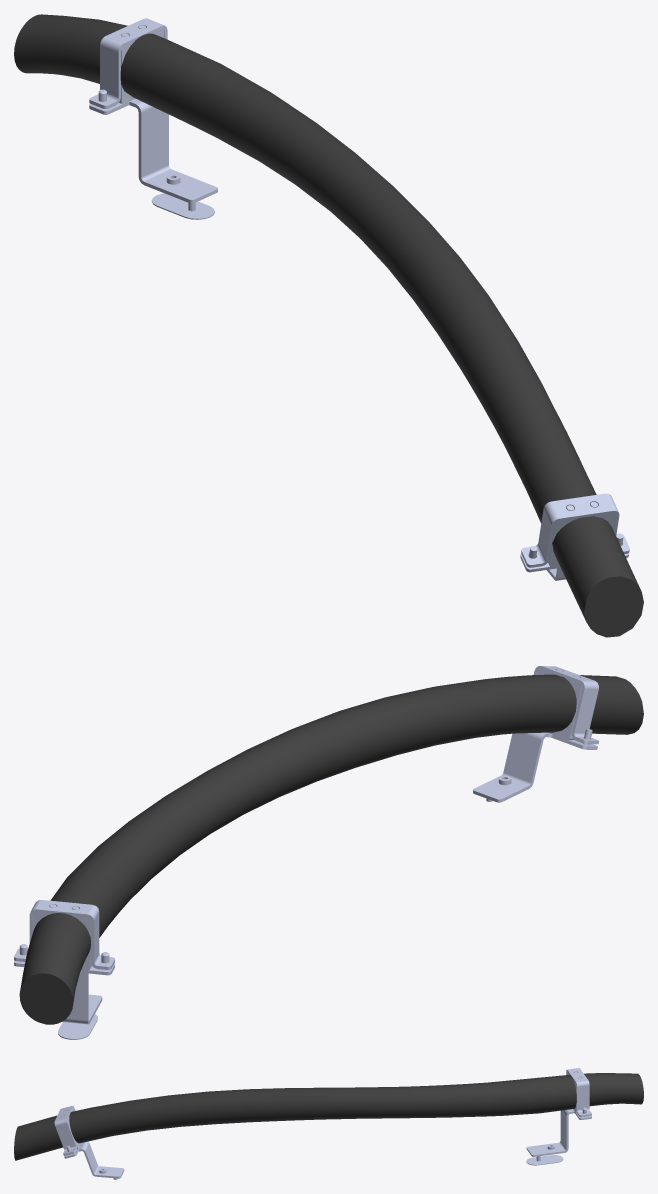
File: link_2_cable.glb
3 views of the same model, one above another, from view 1: azimuth 30°, elevation 25°; view 2: azimuth 150°, elevation 25°; view 3: azimuth 270°, elevation 25° (orthographic). The views are drawn at different scales.
Parts seen in each view (by area): view 1: Cable; view 2: Cable; view 3: Cable.
Boxes of the visible parts, bbox=[...] form: Cable: bbox=[14, 14, 643, 637]; Cable: bbox=[14, 666, 643, 1039]; Cable: bbox=[14, 1068, 643, 1179].
Bounding box in the file's own units: 0.1441 × 0.182 × 0.9657.
